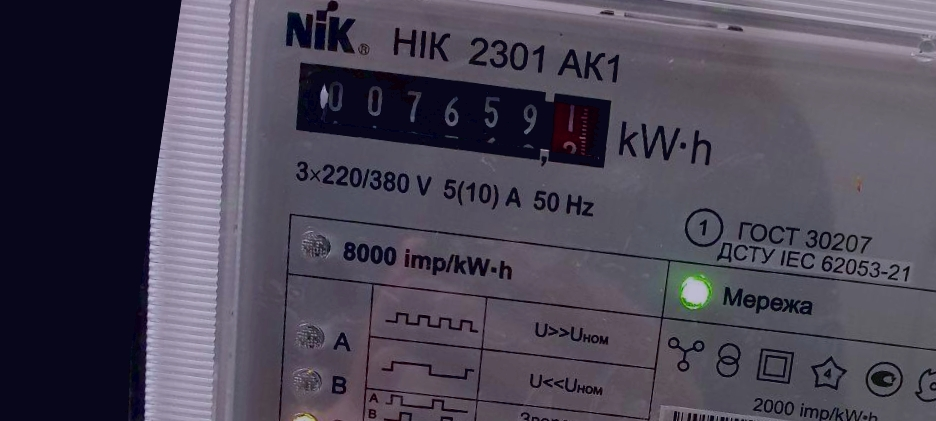0: (361, 80, 389, 120), (322, 75, 348, 116)
1: (560, 98, 581, 136)
5: (478, 92, 503, 131)
6: (438, 91, 465, 129)
7: (398, 85, 425, 126)
9: (516, 99, 542, 139)
screen: (280, 48, 624, 184)
